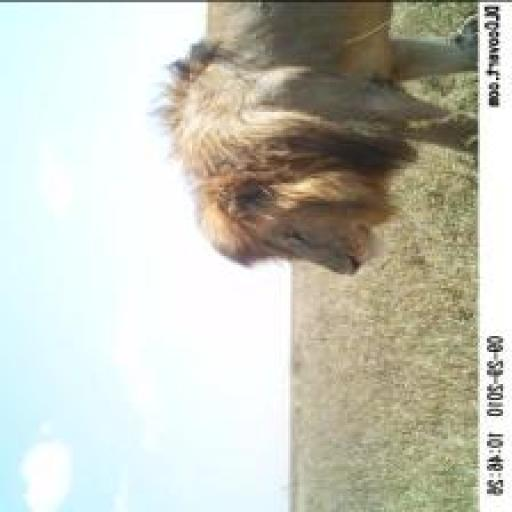lion: (146, 7, 477, 288)
